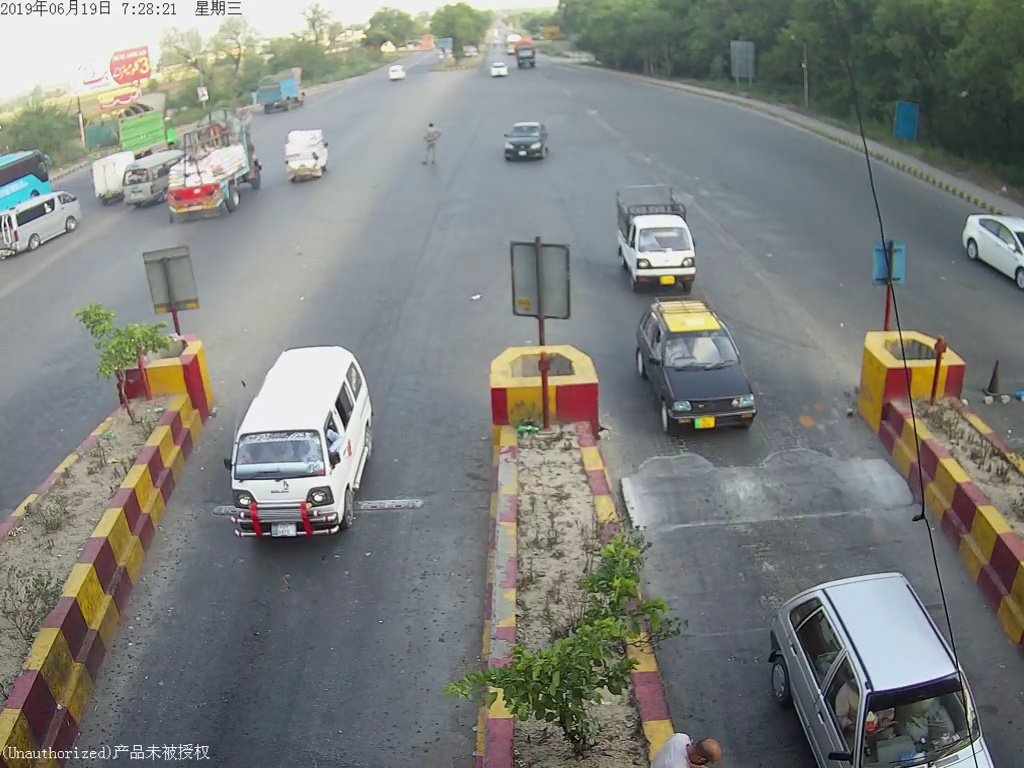Cat-1: (217, 336, 388, 553), (631, 298, 771, 450), (602, 179, 712, 293), (496, 119, 545, 166)
